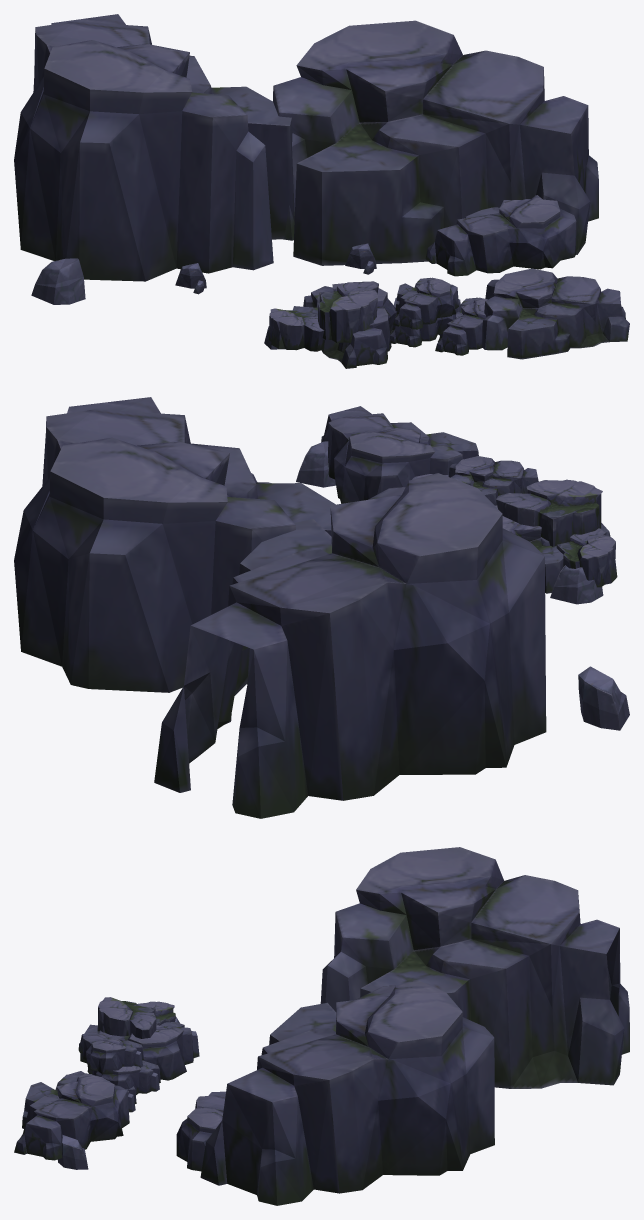
Rendered from Area14_1_y.FBX.
The picture shows the model from 3 angles, top to bottom: view 1: azimuth 30°, elevation 25°; view 2: azimuth 150°, elevation 25°; view 3: azimuth 270°, elevation 25°; orthographic projection. The views are drawn at different scales.
Visible parts, largest first — view 1: Area14_1_y; view 2: Area14_1_y; view 3: Area14_1_y.
Part boxes in pixels (box(x1,y1,x2,y2)): Area14_1_y: box(14, 14, 629, 368); Area14_1_y: box(14, 397, 629, 818); Area14_1_y: box(14, 847, 629, 1205).
Size of the model in its own units: 6689 by 2267 by 7625.
